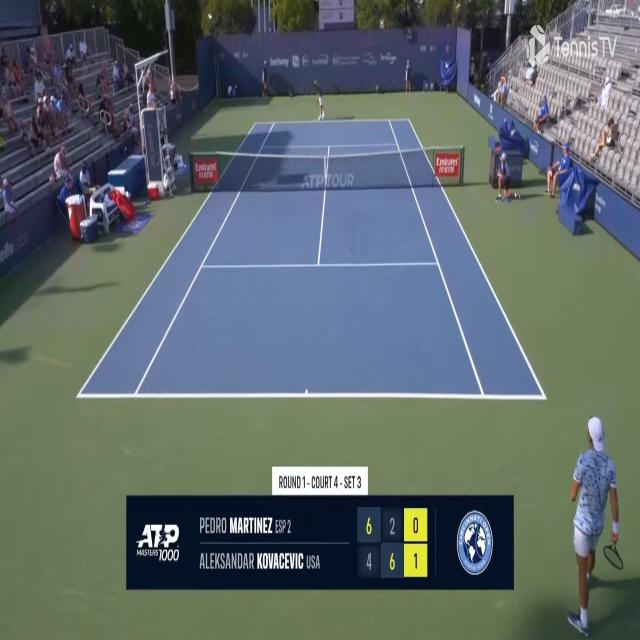tennis-player: (567, 411, 627, 637), (308, 77, 325, 122)
